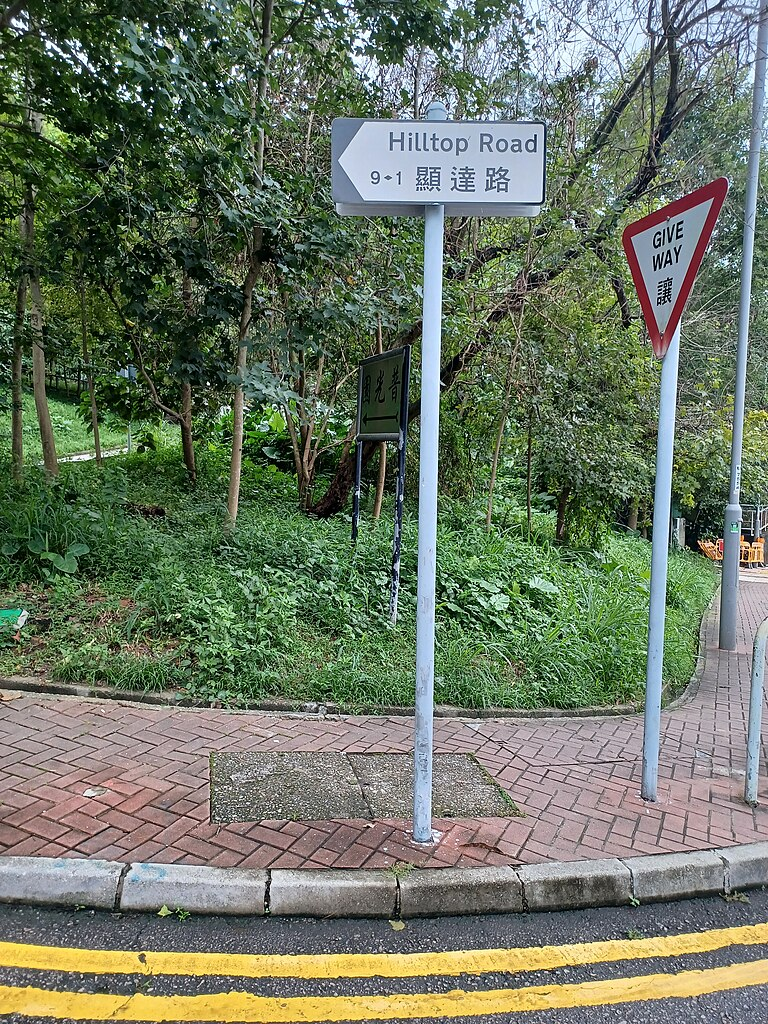Give Way: (619, 185, 724, 352)
